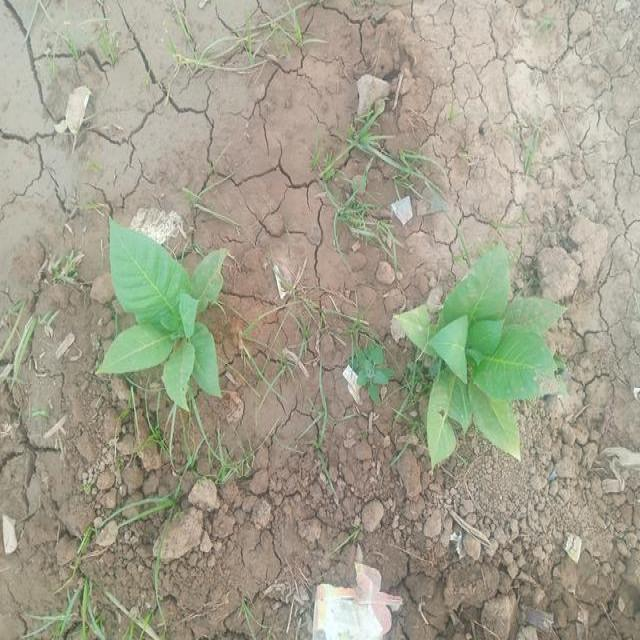crop: (392, 260, 557, 467), (100, 213, 232, 420)
